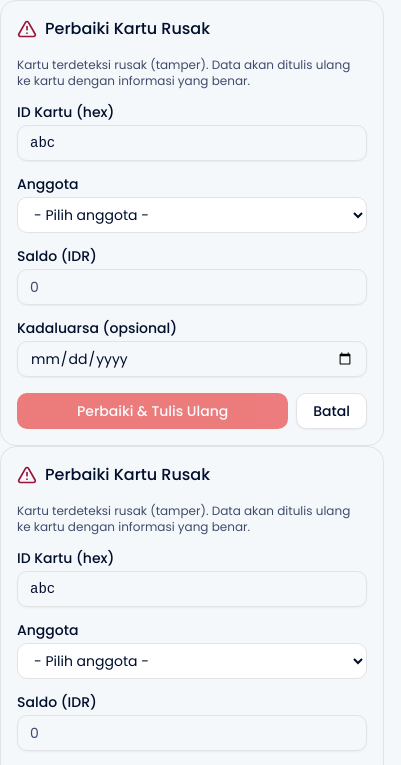
Scenario: StationFixCardPanel - form phase › shows error when cardId is whitespace-only and fix attempted
Select a member (required) on the second render
Select "Budi (#u-1)" in the 2nd dropdown named "Anggota": (192, 661) left=17, top=643, right=367, bottom=679
(page scrolled)
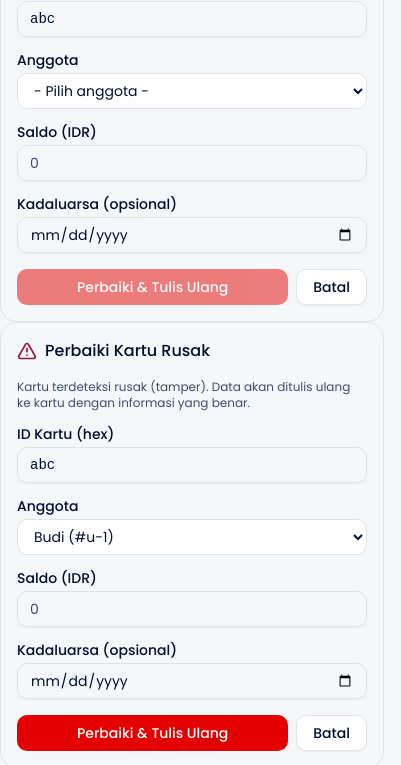
Click the 2nd button "Perbaiki & Tulis Ulang": click(153, 733) left=17, top=715, right=288, bottom=751
(page scrolled)
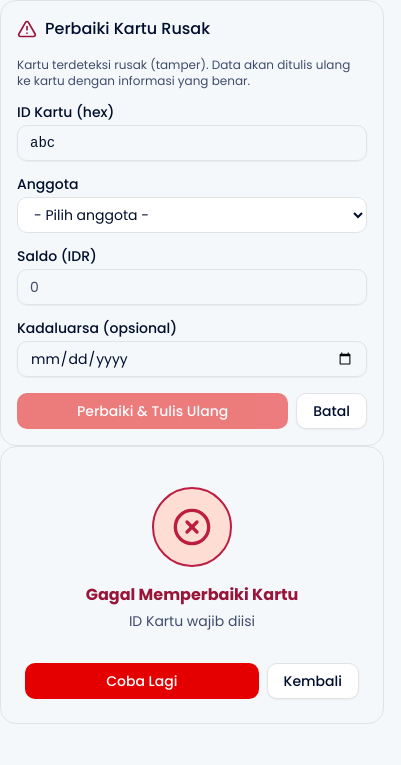
Now the text "ID Kartu wajib diisi" is shown, box left=129, top=611, right=255, bottom=631
